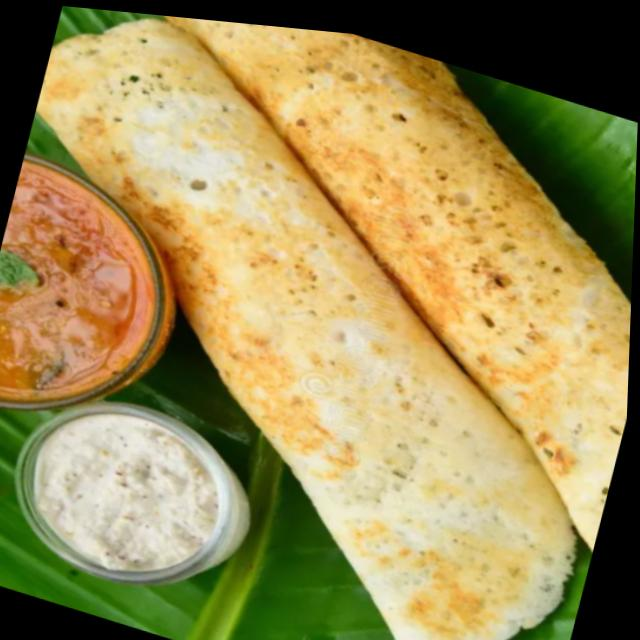DOSA: (37, 15, 631, 640)
SAMBAR: (0, 158, 171, 406)
WHITE CHUTNEY: (37, 413, 218, 568)
